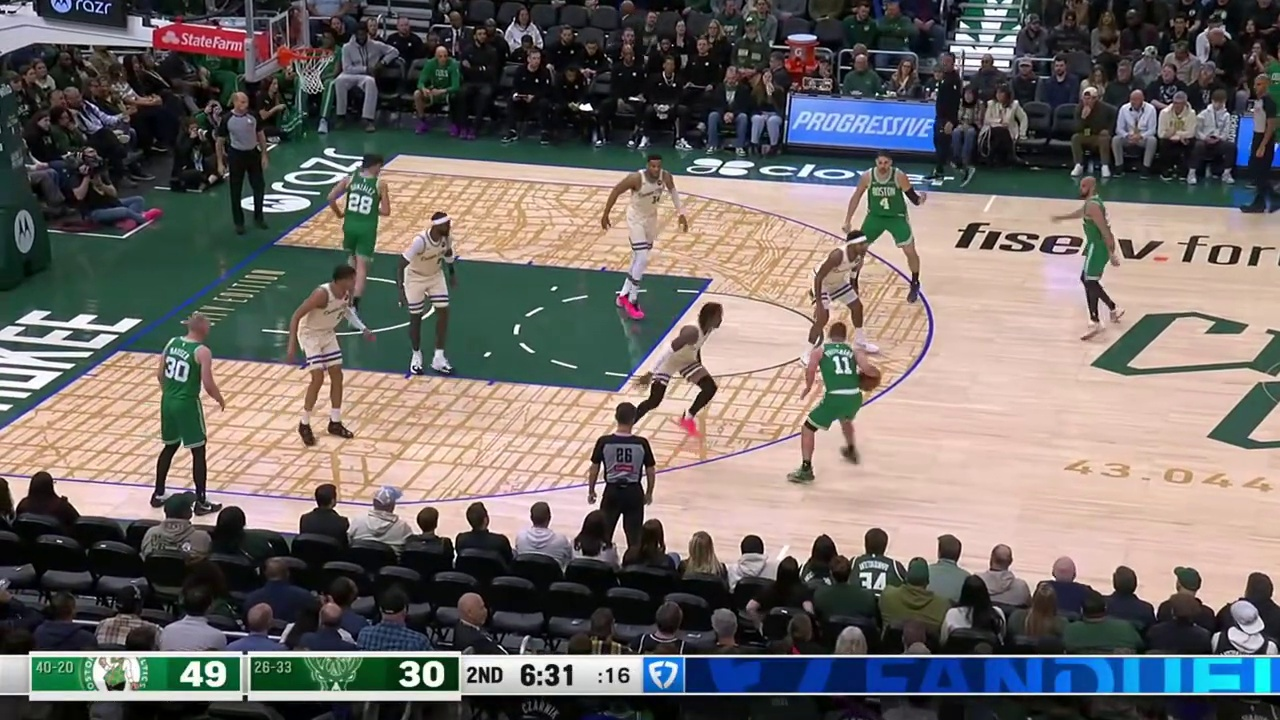11_PaytonPrichard: (795, 320, 879, 462)
21_OusmaneDieng: (289, 255, 366, 457)
28_HugoGonzalez: (329, 147, 400, 256)
30_SamHauser: (140, 298, 226, 501)
34_GiannisAntetokounmpo: (602, 146, 686, 283)
4_NikolaVucecic: (850, 147, 925, 251)
7_KevinPorter: (644, 290, 720, 444)
9_BobbyPortis: (400, 201, 467, 385)
9_DerrickWhite: (1053, 167, 1131, 340), (813, 229, 880, 303)
